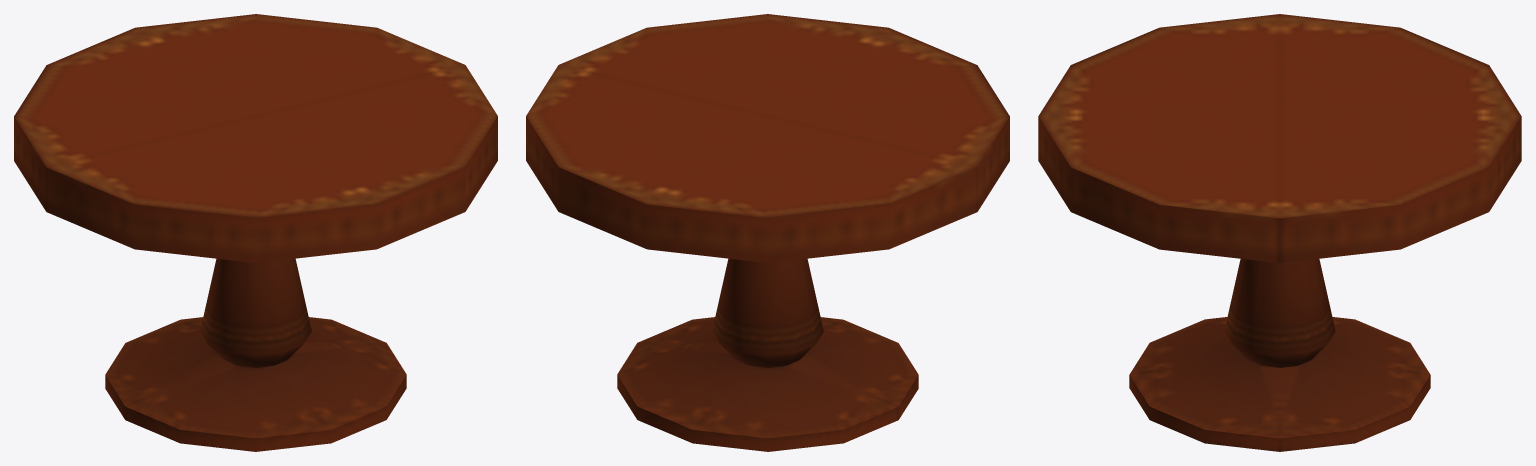
Rendered from Church_RoundTable.FBX.
3 views of the same model, side by side, from view 1: azimuth 30°, elevation 25°; view 2: azimuth 150°, elevation 25°; view 3: azimuth 270°, elevation 25° (orthographic).
Parts seen in each view (by area): view 1: Church_RoundTable; view 2: Church_RoundTable; view 3: Church_RoundTable.
Boxes of the visible parts, <box> form: Church_RoundTable: <box>14,14,497,451</box>; Church_RoundTable: <box>526,14,1009,451</box>; Church_RoundTable: <box>1038,14,1521,451</box>.
Size of the model in its own units: 52.7 by 32.69 by 52.64.
